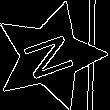N_E: (18, 28, 82, 83)
